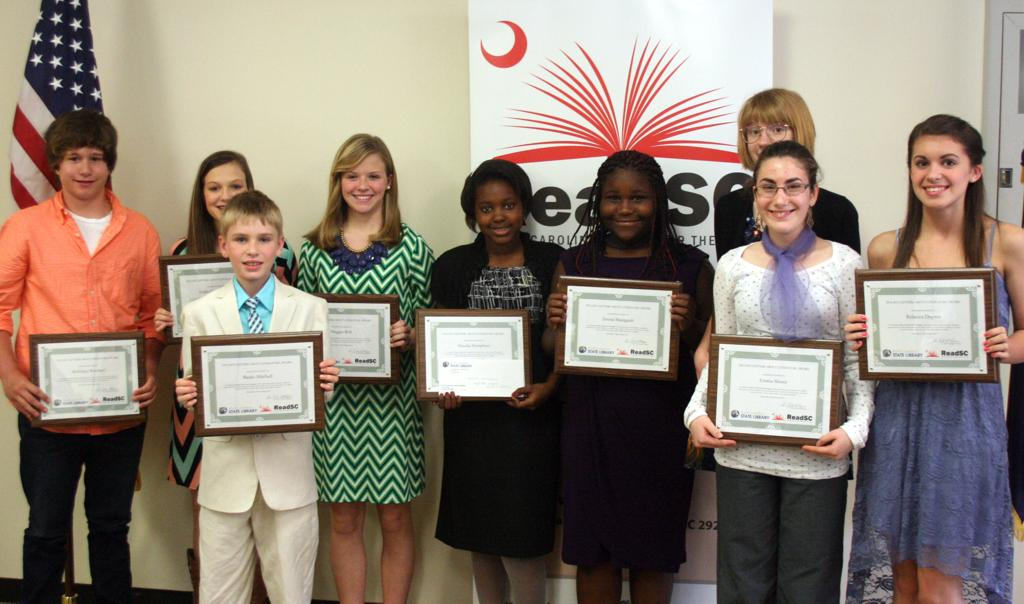face: (907, 135, 970, 209), (758, 157, 811, 233), (600, 169, 656, 239), (226, 219, 277, 280), (475, 180, 521, 244), (57, 147, 109, 200), (341, 153, 387, 212), (204, 163, 248, 223), (746, 120, 795, 167)
